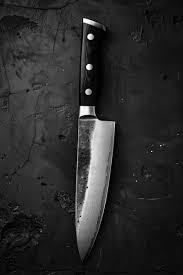Knife: (74, 16, 115, 262)
